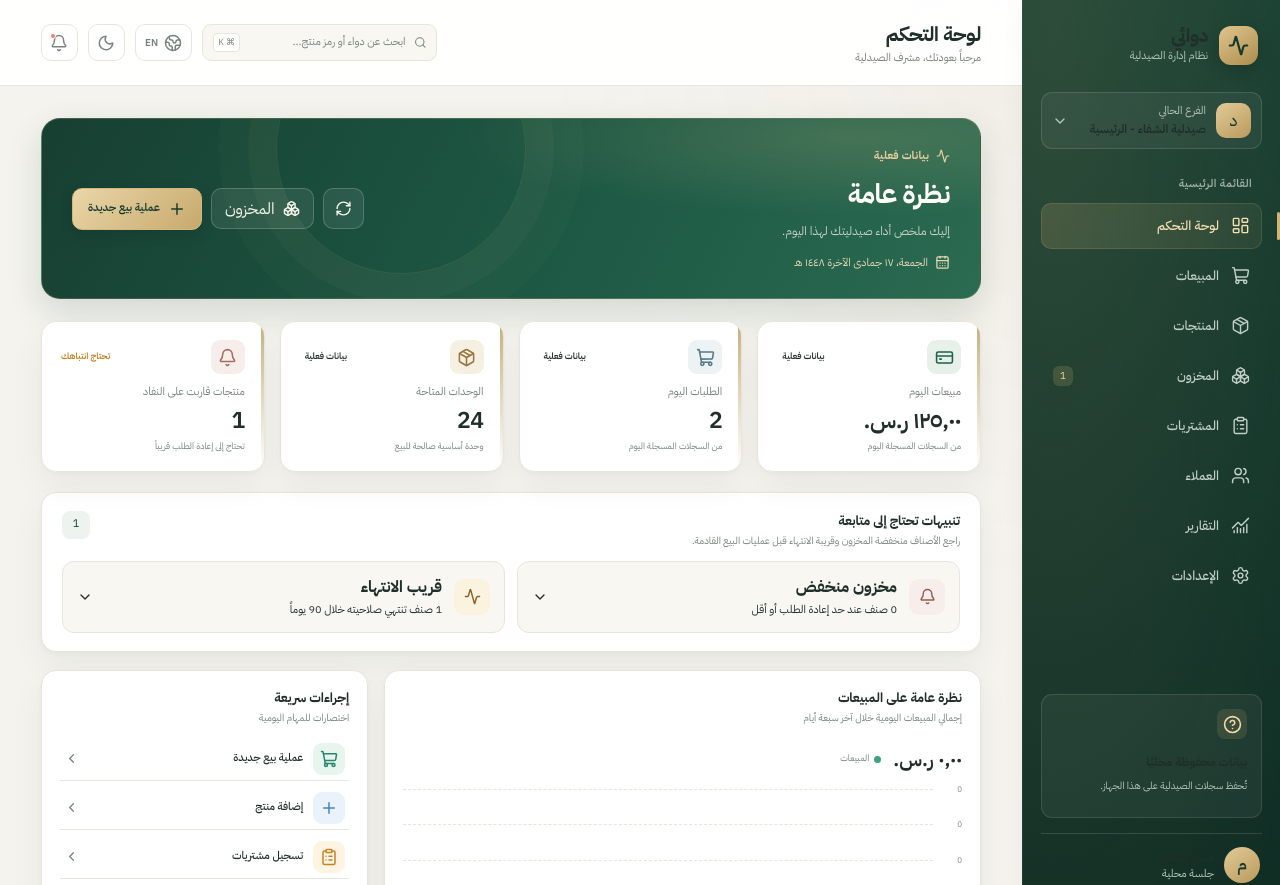
main application shell › loads the real product catalog and filters it from global search
Click the button "المنتجات".
click(1152, 326)  # box [1041,302,1262,348]
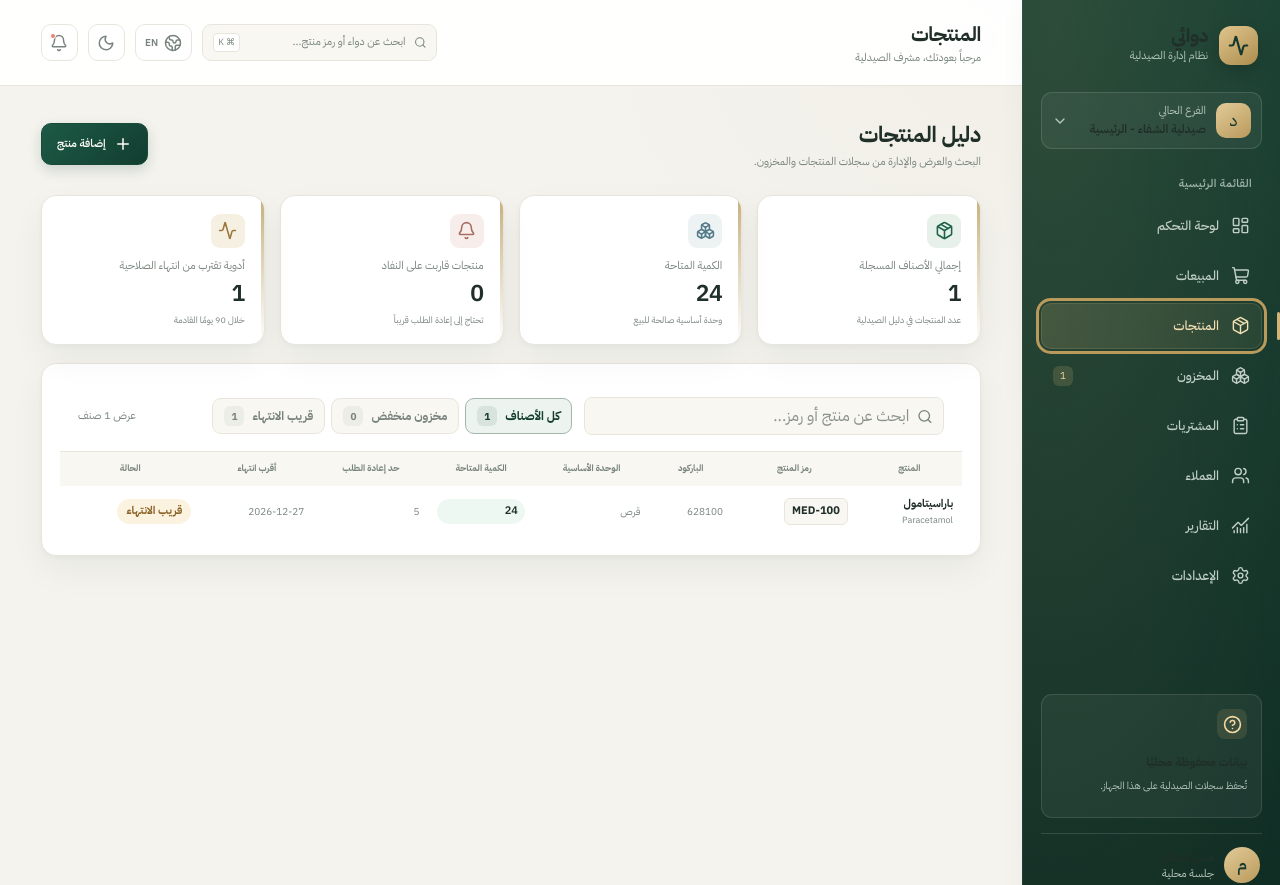
Expected: the text "Paracetamol" is shown, [902,513,953,527]
Type "missing" into the field named "ابحث عن دواء أو رمز منتج...".
click(327, 43); type("missing")  # box [248,34,406,51]
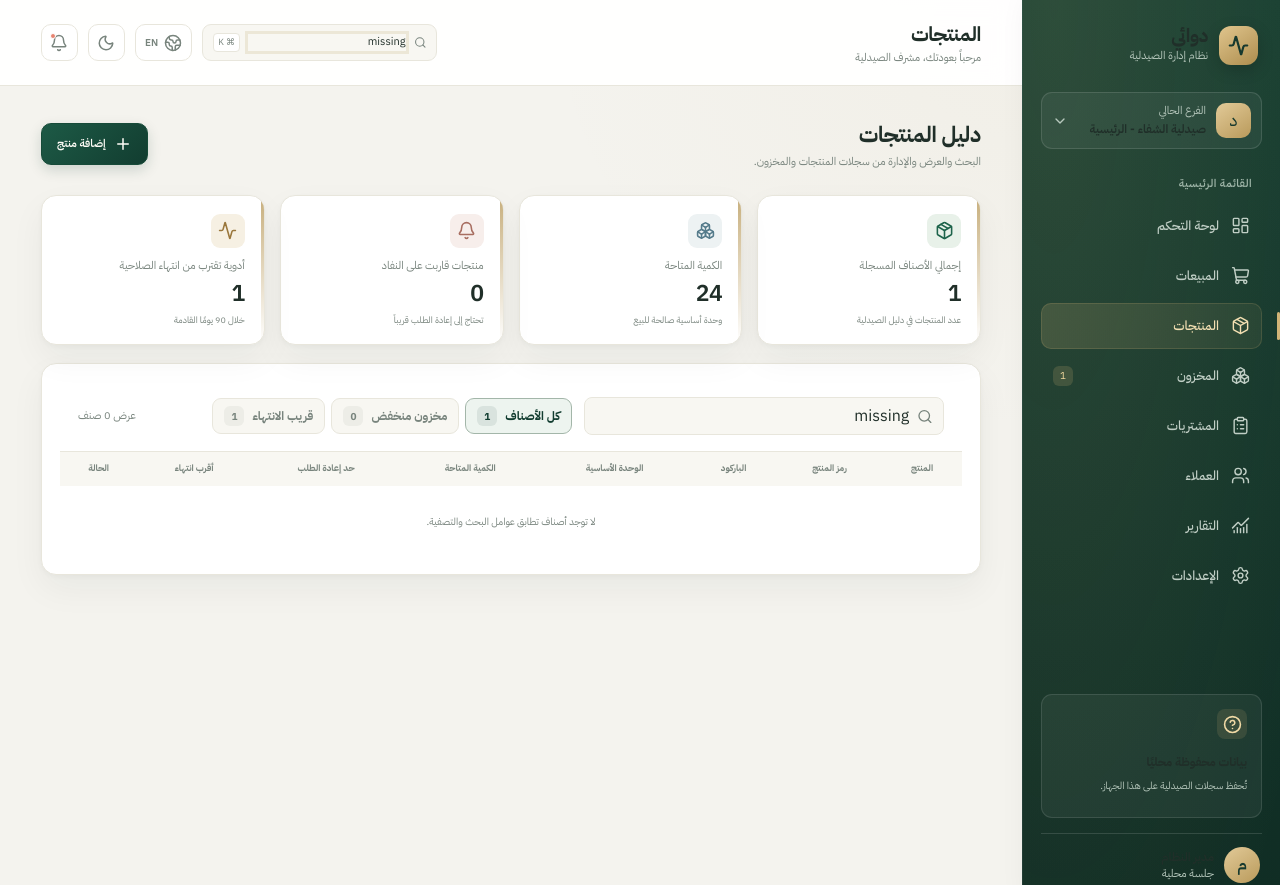
Expected: the text "باراسيتامول" is gone
